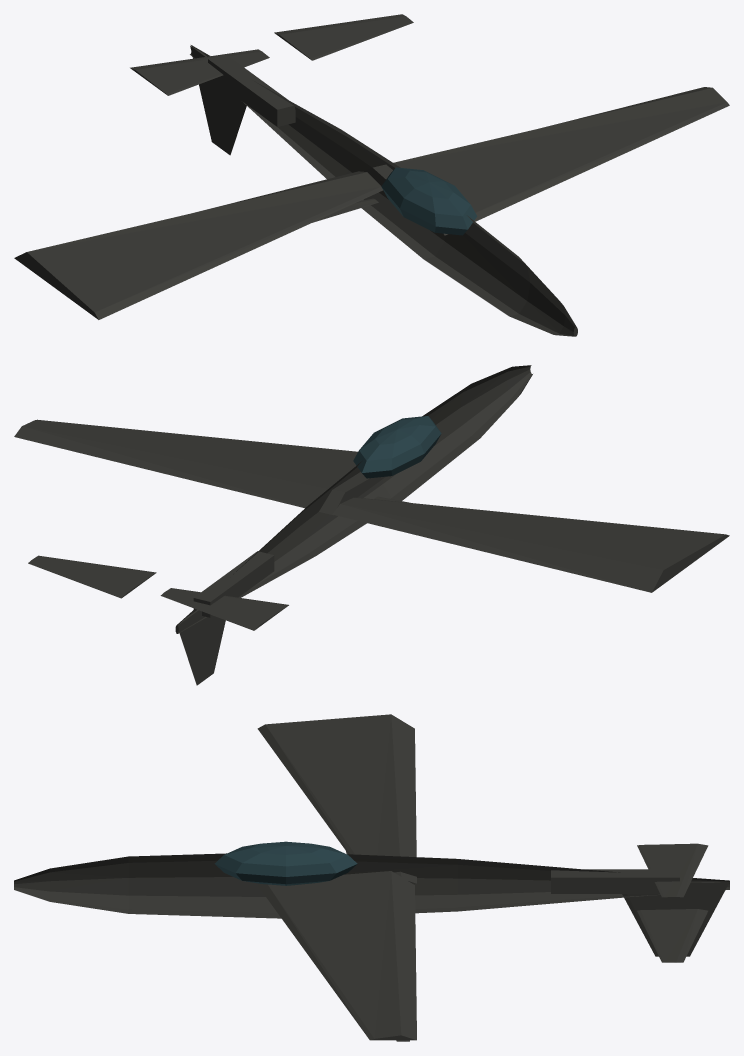
File: a10c_Destroyed.glb
3 renders of one model, top to bottom at view 1: azimuth 30°, elevation 25°; view 2: azimuth 150°, elevation 25°; view 3: azimuth 270°, elevation 25°, orthographic. The views are drawn at different scales.
Visible parts, largest first — view 1: Wing_L, Wing_R, Fuselage, Cockpit, Elevator_R, TailBoom, Elevator_L, Rudder; view 2: Wing_L, Wing_R, Fuselage, Cockpit, Elevator_R, Rudder, Elevator_L, TailBoom; view 3: Fuselage, Wing_R, Wing_L, Cockpit, TailBoom, Elevator_R, Rudder, Elevator_L.
Boxes of the visible parts, x1,y1,x2,y2 form: Wing_L: (14, 171, 382, 319); Wing_R: (364, 87, 729, 235); Fuselage: (190, 45, 577, 336); Cockpit: (381, 167, 477, 235); Elevator_R: (274, 14, 413, 60); TailBoom: (208, 54, 295, 126); Elevator_L: (130, 49, 269, 95); Rudder: (190, 45, 246, 155); Wing_L: (332, 497, 729, 592); Wing_R: (14, 419, 385, 515); Fuselage: (175, 365, 532, 633); Cockpit: (353, 416, 441, 478); Elevator_R: (28, 555, 156, 598); Rudder: (178, 610, 225, 685); Elevator_L: (160, 588, 288, 630); TailBoom: (193, 551, 274, 617); Fuselage: (14, 853, 729, 918); Wing_R: (257, 871, 416, 1040); Wing_L: (257, 714, 416, 883); Cockpit: (214, 841, 357, 885); TailBoom: (551, 869, 679, 893); Elevator_R: (637, 909, 707, 962); Rudder: (622, 881, 729, 956); Elevator_L: (637, 843, 708, 897).
Bounding box in the file's own units: 16.83 × 2.77 × 16.26.
